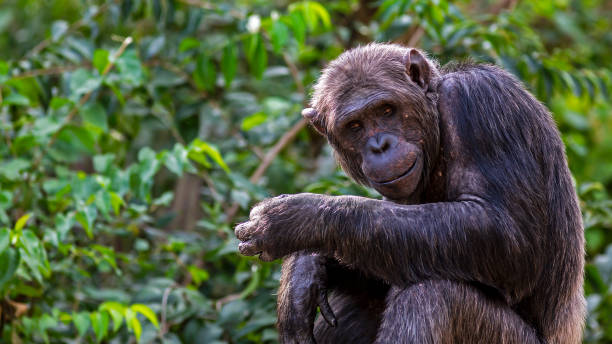chimpanzee: (291, 30, 463, 211)
